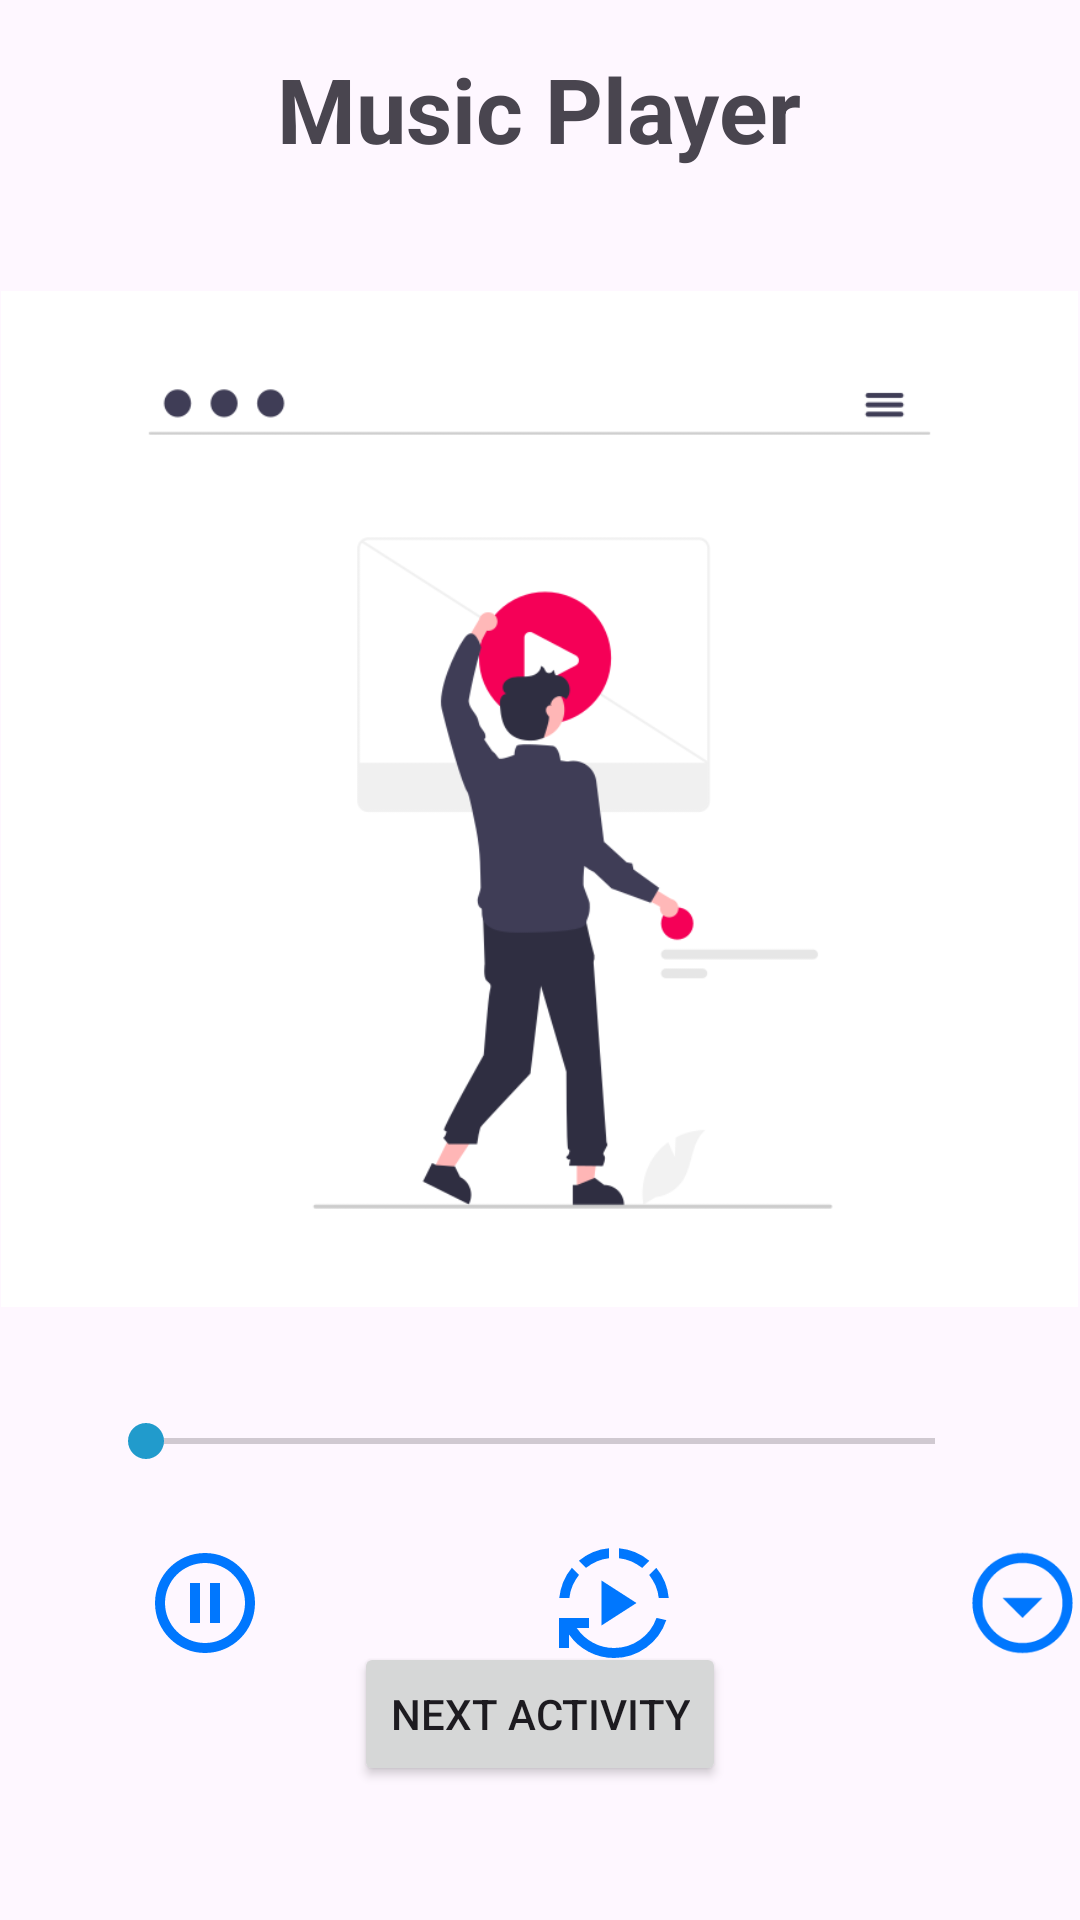

Named icons in this screenshot (1080px×1920px) and their bounding boxes, [x1,y1,x2,y2]:
autoplay: [559,1548,669,1658]
pause circle: [155,1553,255,1653]
